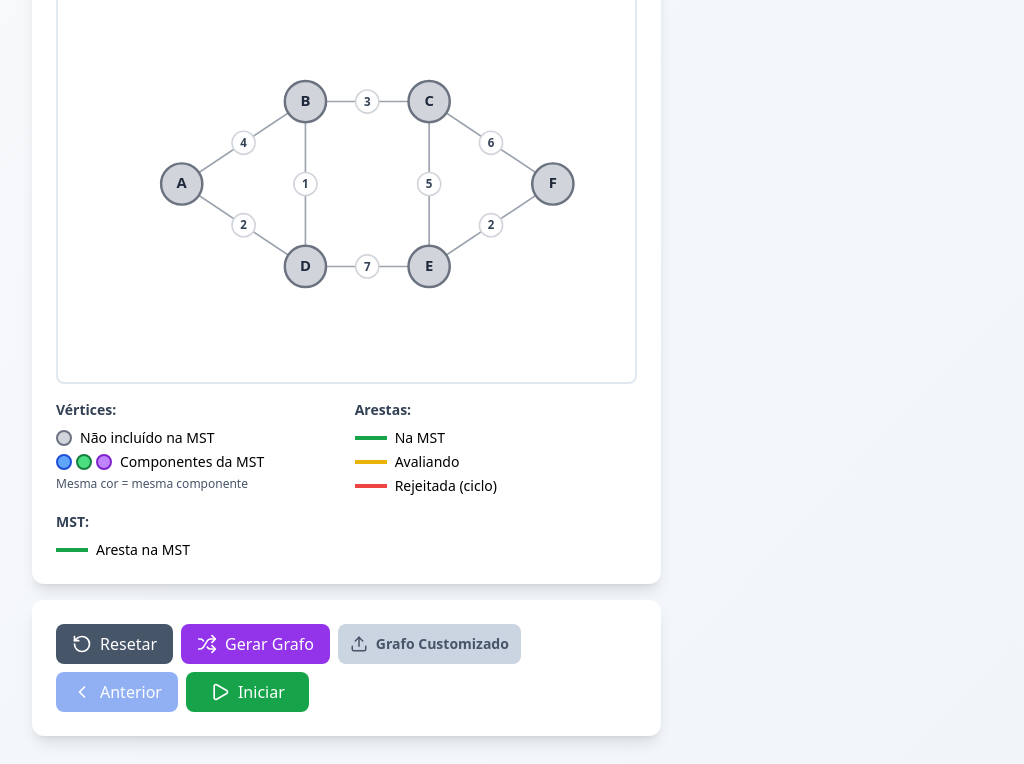
Test case: KruskalSimulator Integration › should start simulation and show first step
(page scrolled)
Click the button with test id "start-button" at (247, 692), box [186,672,309,712]
(page scrolled)
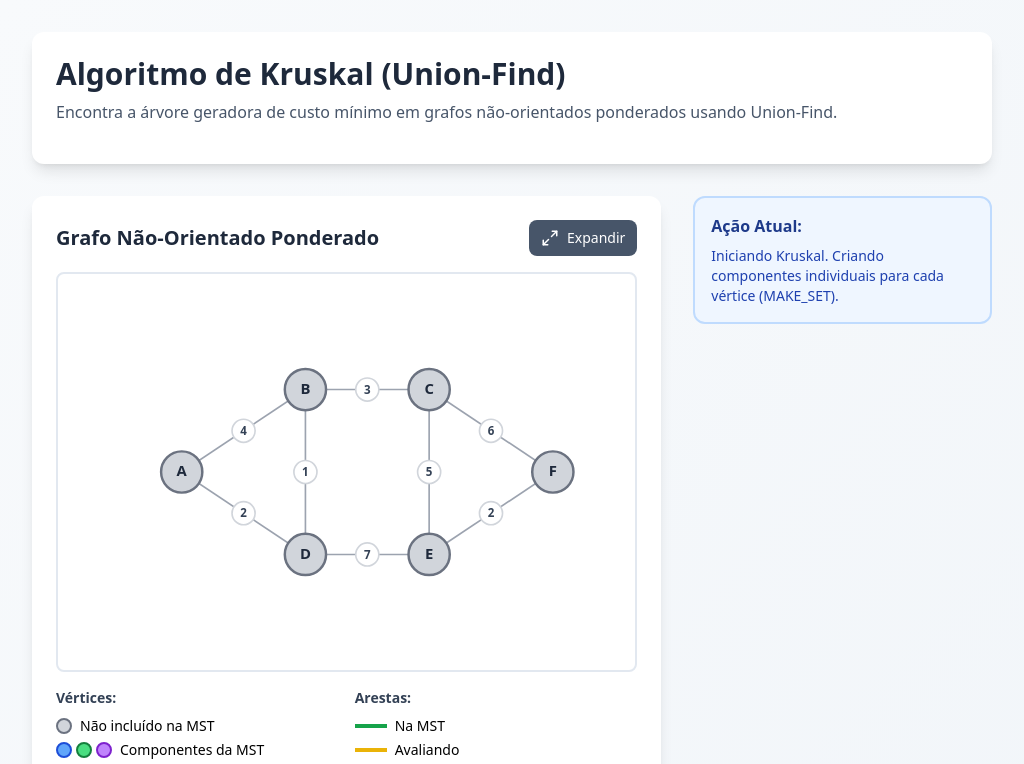
Check: the element with test id "action-message-panel" is shown, box [693,196,992,324]
Check: the text "Iniciando Kruskal" is shown, box [711,246,944,305]
